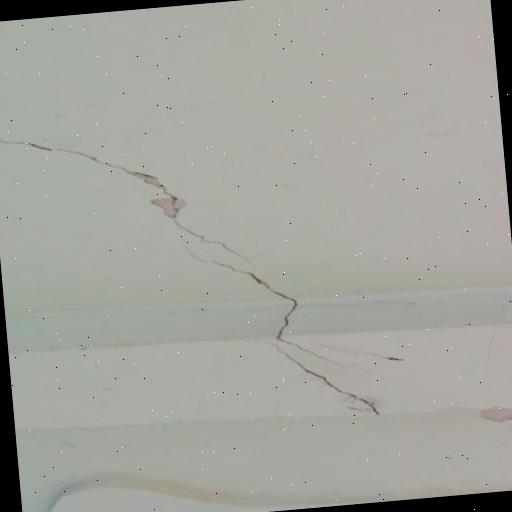spalling: (0, 131, 255, 263), (204, 269, 386, 417)
